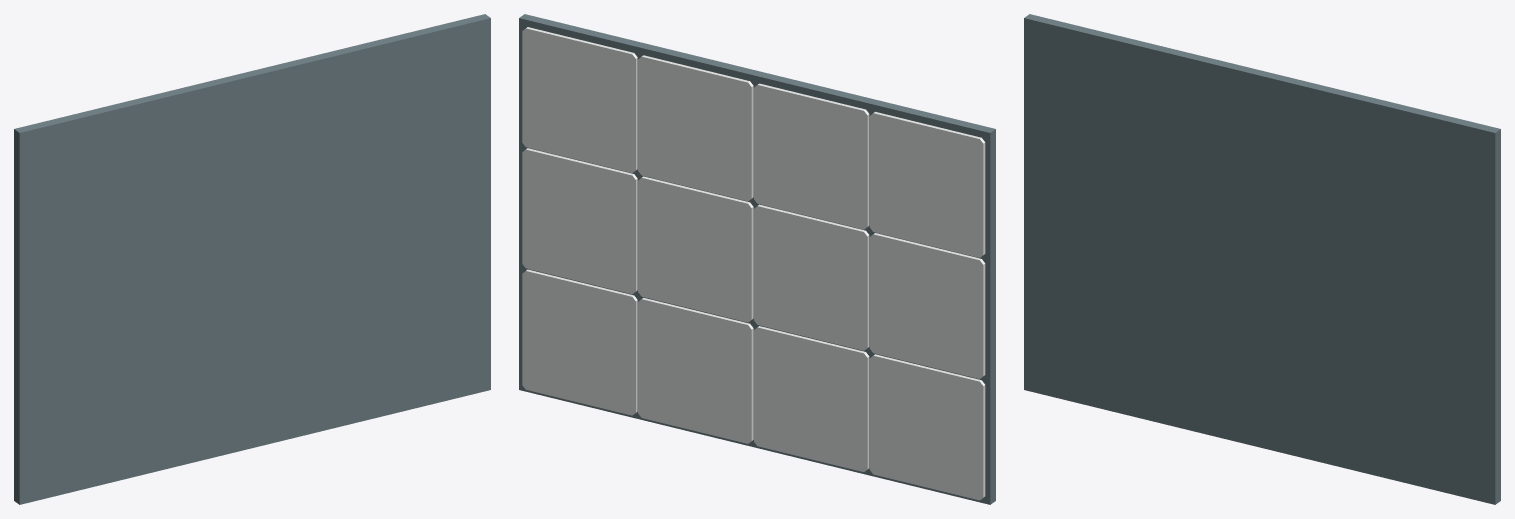
File: LongWall.fbx
3 renders of one model, left to right at view 1: azimuth 30°, elevation 25°; view 2: azimuth 150°, elevation 25°; view 3: azimuth 330°, elevation 25°, orthographic.
Parts seen in each view (by area): view 1: BackWall; view 2: BackWall, Panel, Panel8, Panel4, Panel7, Panel9, Panel2, Panel5, Panel6, Panel11, Panel1, Panel3 (+1 smaller); view 3: BackWall.
Part boxes in pixels (box(x1,y1,x2,y2)): BackWall: box(14, 14, 490, 504); BackWall: box(519, 14, 995, 504); Panel: box(869, 111, 985, 257); Panel8: box(869, 354, 985, 500); Panel4: box(869, 233, 985, 378); Panel7: box(522, 148, 637, 294); Panel9: box(754, 326, 869, 471); Panel2: box(638, 55, 753, 201); Panel5: box(754, 204, 869, 350); Panel6: box(638, 176, 753, 322); Panel11: box(522, 269, 637, 415); Panel1: box(754, 83, 869, 229); Panel3: box(522, 27, 637, 172); BackWall: box(1024, 14, 1500, 504).
Size of the model in its own units: 207 by 156 by 5.74.
1 material, 1 textured.
